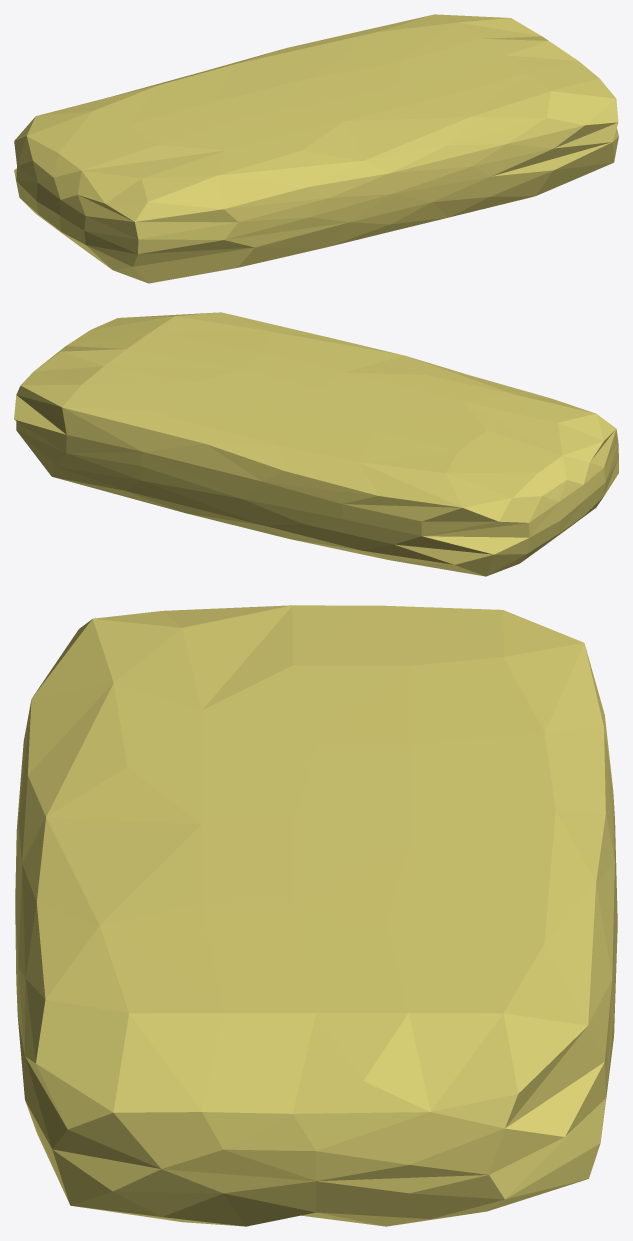
The model's file is FallingNote.fbx.
3 views of the same model, one above another, from view 1: azimuth 30°, elevation 25°; view 2: azimuth 150°, elevation 25°; view 3: azimuth 270°, elevation 25° (orthographic). The views are drawn at different scales.
Visible parts, largest first — view 1: Cube; view 2: Cube; view 3: Cube.
Boxes of the visible parts, x1,y1,x2,y2 form: Cube: [14, 14, 618, 283]; Cube: [14, 312, 618, 576]; Cube: [15, 605, 617, 1226].
Bounding box in the file's own units: 218 × 37.13 × 108.
Materials: 1 (1 with a texture image).
